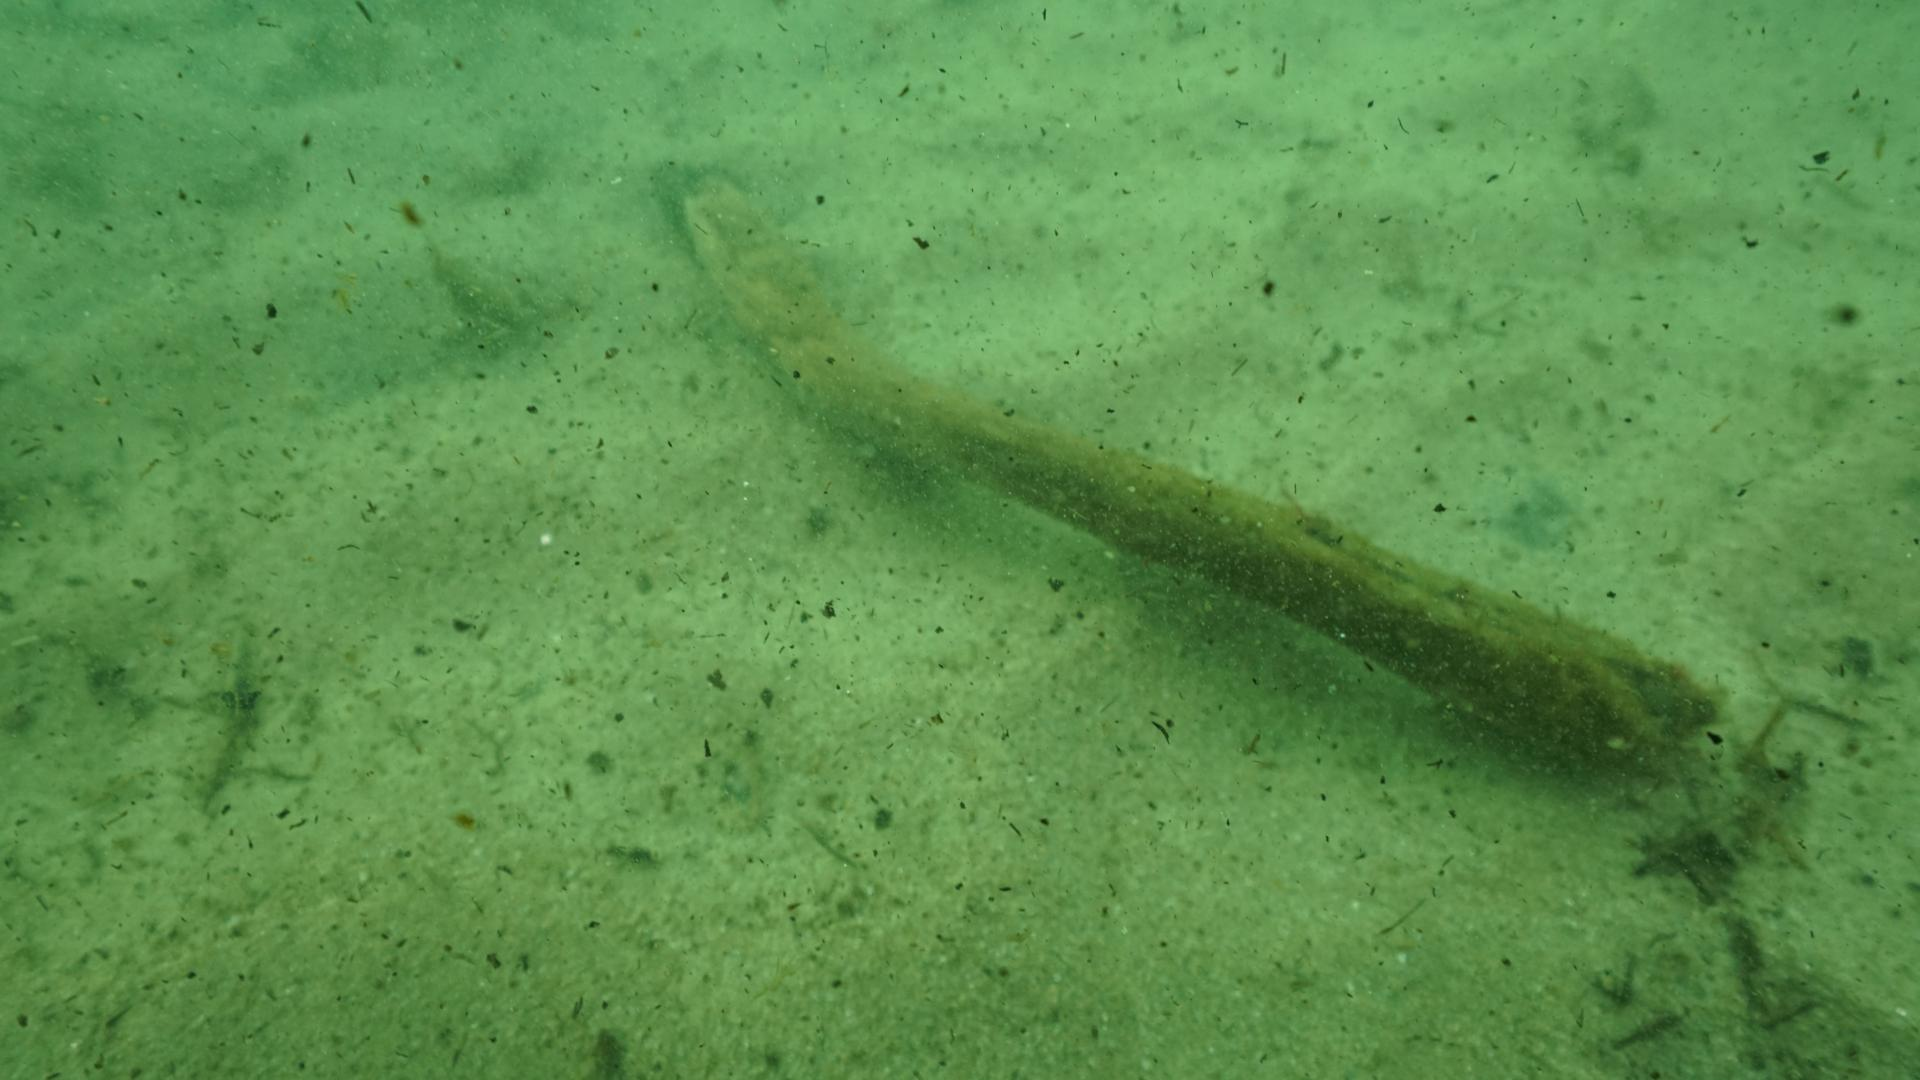wood: (647, 156, 1730, 773)
